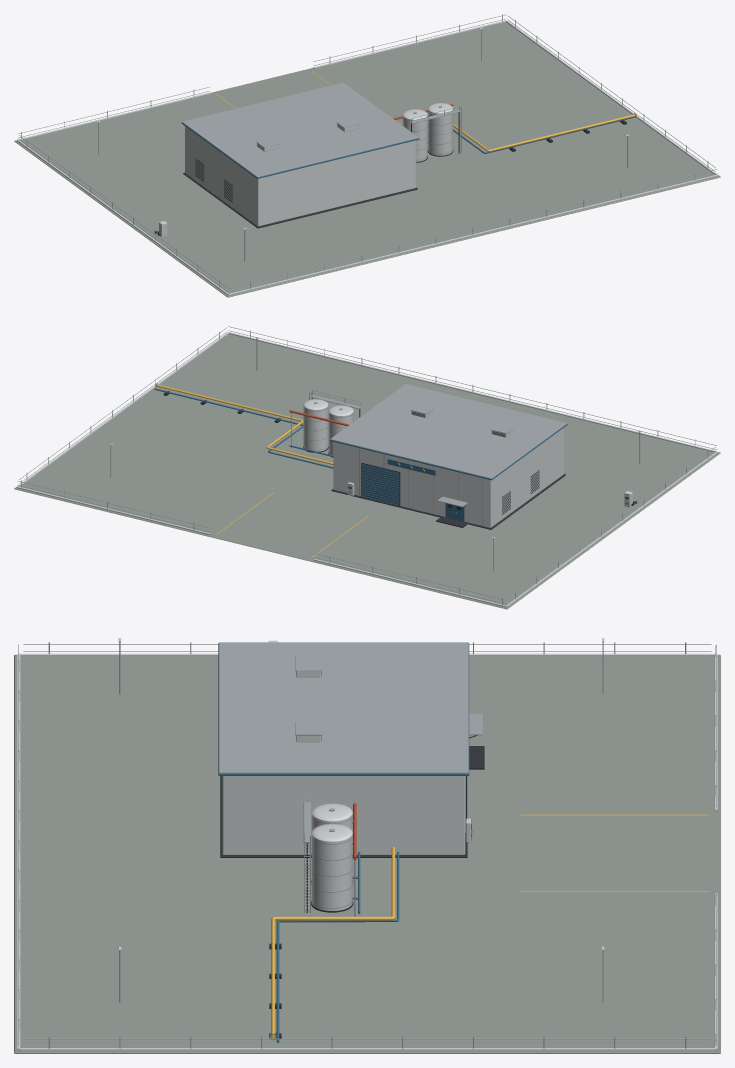
File: thermal_station.glb
The picture shows the model from 3 angles, top to bottom: view 1: azimuth 30°, elevation 25°; view 2: azimuth 150°, elevation 25°; view 3: azimuth 270°, elevation 25°; orthographic projection. The views are drawn at different scales.
Parts seen in each view (by area): view 1: ThermalAssembly; view 2: ThermalAssembly; view 3: ThermalAssembly.
Part boxes in pixels (<box>): ThermalAssembly: <box>14,14,720,297</box>; ThermalAssembly: <box>14,326,720,609</box>; ThermalAssembly: <box>14,638,720,1053</box>.
Bounding box in the file's own units: 8 × 0.91 × 6.
